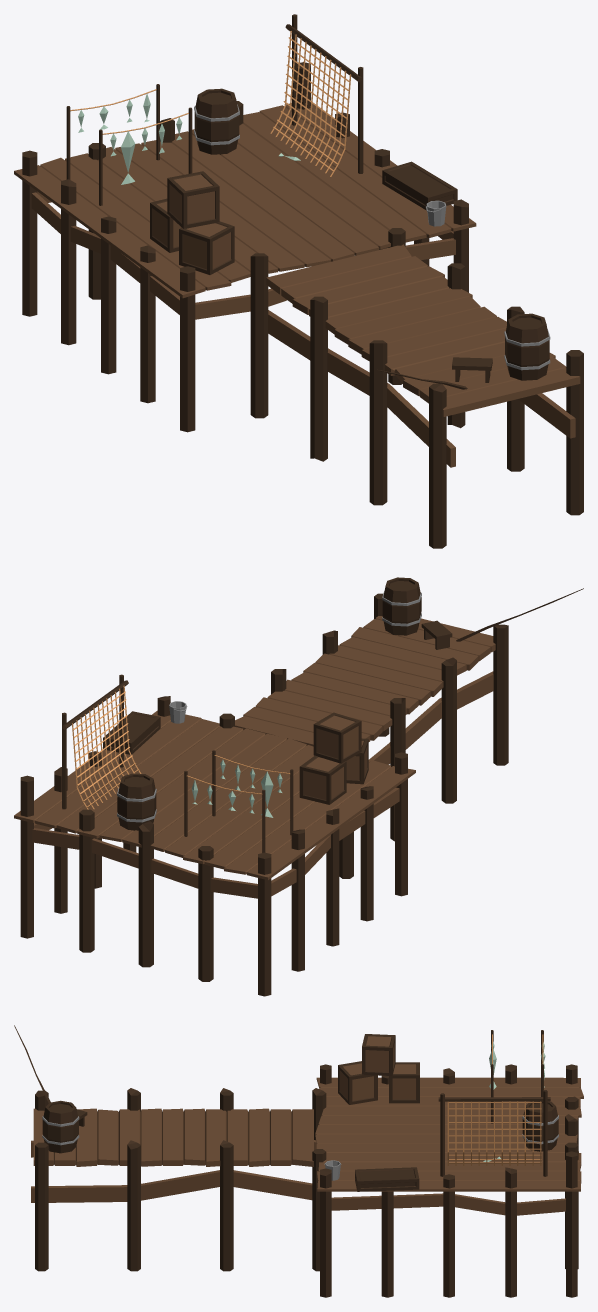
File: fishery_mat.fbx
3 renders of one model, top to bottom at view 1: azimuth 30°, elevation 25°; view 2: azimuth 150°, elevation 25°; view 3: azimuth 270°, elevation 25°, orthographic. The views are drawn at different scales.
Parts seen in each view (by area): view 1: fishery_mat; view 2: fishery_mat; view 3: fishery_mat.
Boxes of the visible parts, x1=… form: fishery_mat: x1=14, y1=14, x2=583, y2=548; fishery_mat: x1=14, y1=577, x2=583, y2=996; fishery_mat: x1=14, y1=1025, x2=583, y2=1297.
Size of the model in its own units: 334 by 265 by 703.
